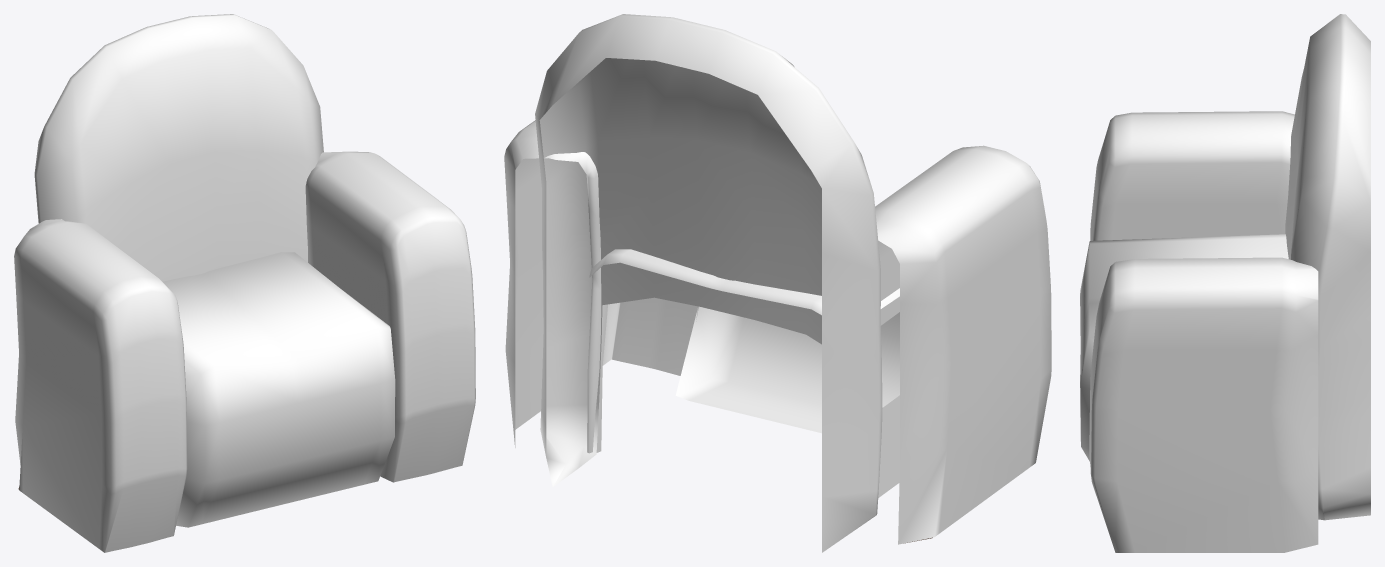
File: mesh_armchair_003.fbx
The picture shows the model from 3 angles, left to right: view 1: azimuth 30°, elevation 25°; view 2: azimuth 150°, elevation 25°; view 3: azimuth 270°, elevation 25°; orthographic projection. The views are drawn at different scales.
Visible parts, largest first — view 1: arm_chair; view 2: arm_chair; view 3: arm_chair.
Boxes of the visible parts, bbox=[...] form: arm_chair: bbox=[14, 14, 475, 552]; arm_chair: bbox=[504, 14, 1051, 552]; arm_chair: bbox=[1080, 14, 1370, 552].
Size of the model in its own units: 211 by 225 by 141.
